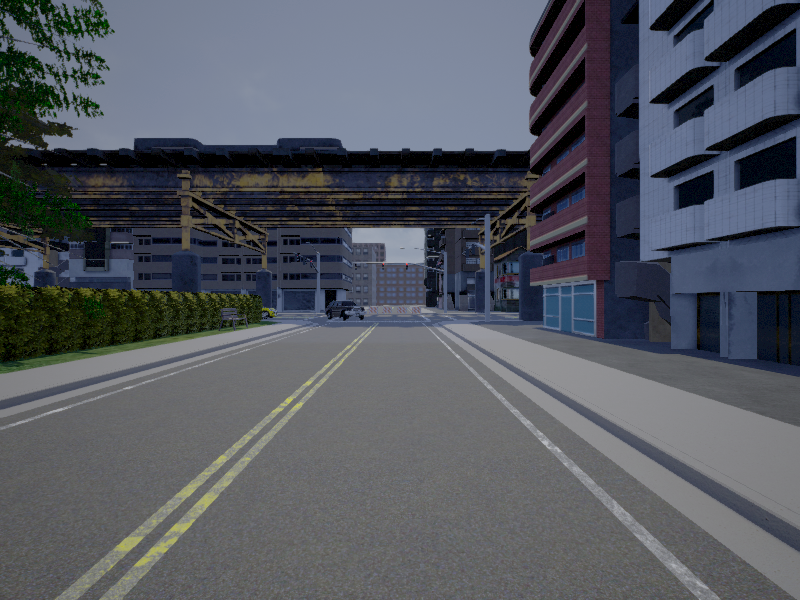Benign: (325, 297, 366, 321)
